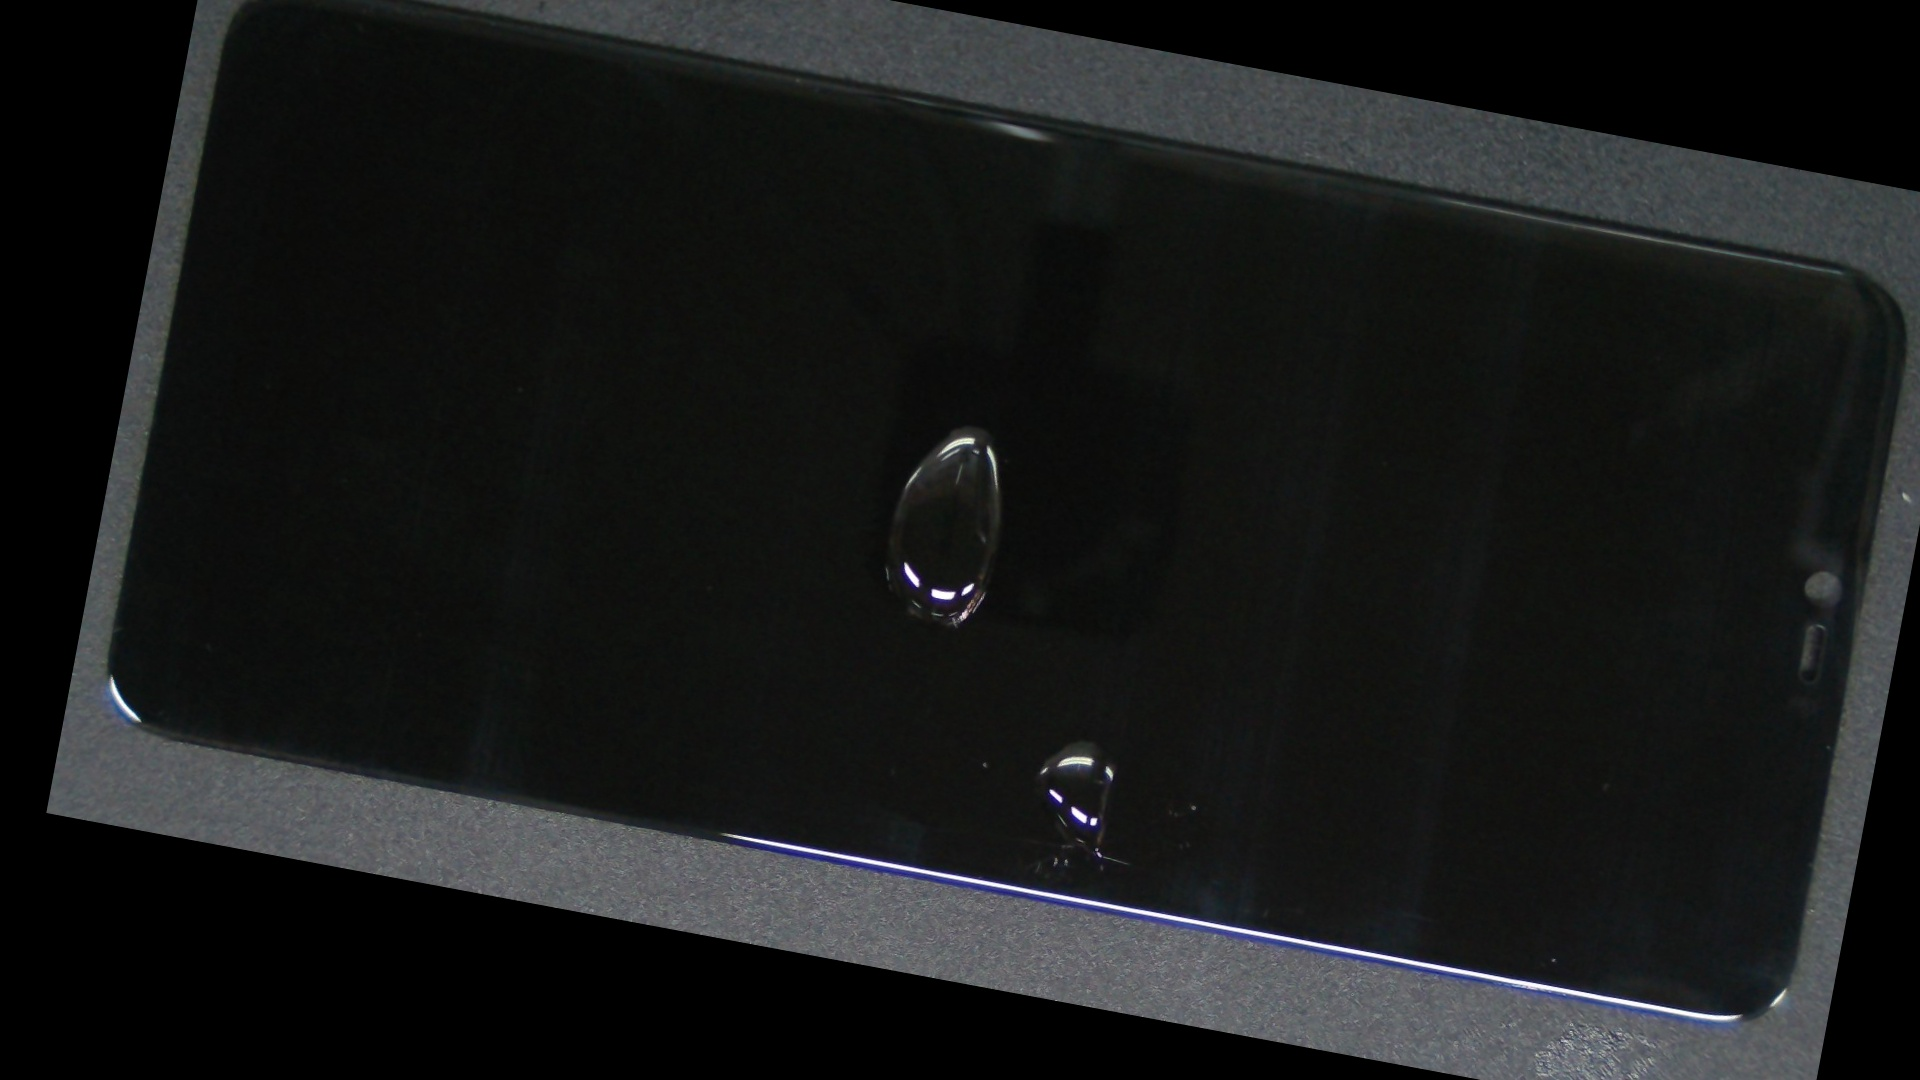oil: (542, 307, 1643, 1080), (525, 150, 1425, 700)
